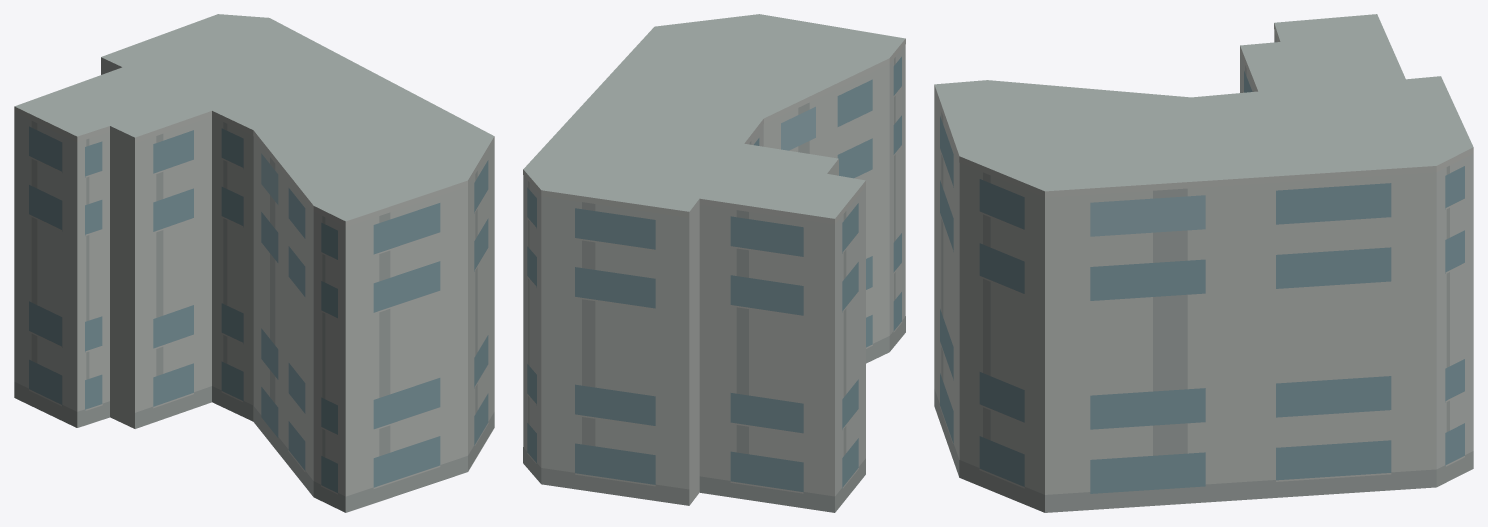
The model's file is survey-upis-32691999.glb.
3 views of the same model, side by side, from view 1: azimuth 30°, elevation 25°; view 2: azimuth 150°, elevation 25°; view 3: azimuth 270°, elevation 25° (orthographic). The views are drawn at different scales.
Parts seen in each view (by area): view 1: survey-upis-32691999.tmp; view 2: survey-upis-32691999.tmp; view 3: survey-upis-32691999.tmp.
Part boxes in pixels (x1,y1,x2,y2): survey-upis-32691999.tmp: [14, 14, 494, 512]; survey-upis-32691999.tmp: [523, 14, 905, 512]; survey-upis-32691999.tmp: [934, 14, 1473, 512].
Bounding box in the file's own units: 14.44 × 12.2 × 18.56.
